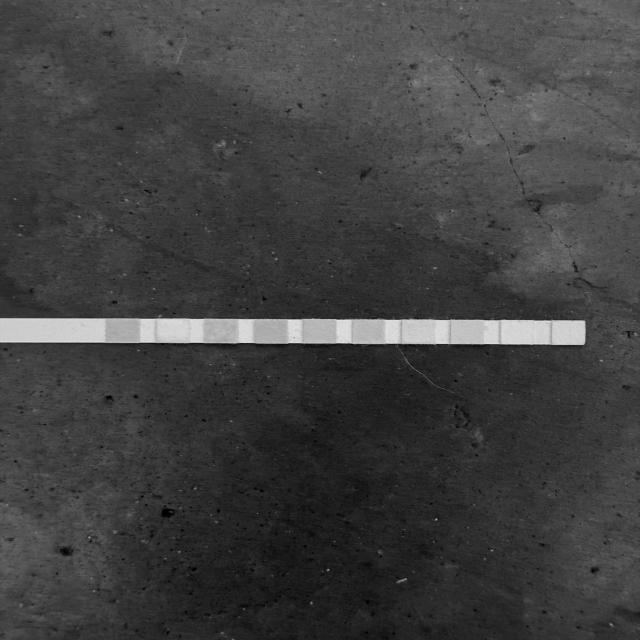Bilirubin: (158, 319, 190, 343)
Blood: (305, 320, 336, 343)
Glucose: (107, 319, 139, 343)
Ketone: (207, 319, 238, 342)
Leukocytes: (553, 321, 585, 344)
Nitrite: (502, 321, 534, 344)
Protein: (403, 319, 435, 343)
SpGravity: (256, 320, 287, 344)
Urobilinogen: (452, 320, 484, 344)
background: (0, 0, 640, 640)
pH: (353, 319, 384, 343)
strip: (7, 318, 585, 345)
